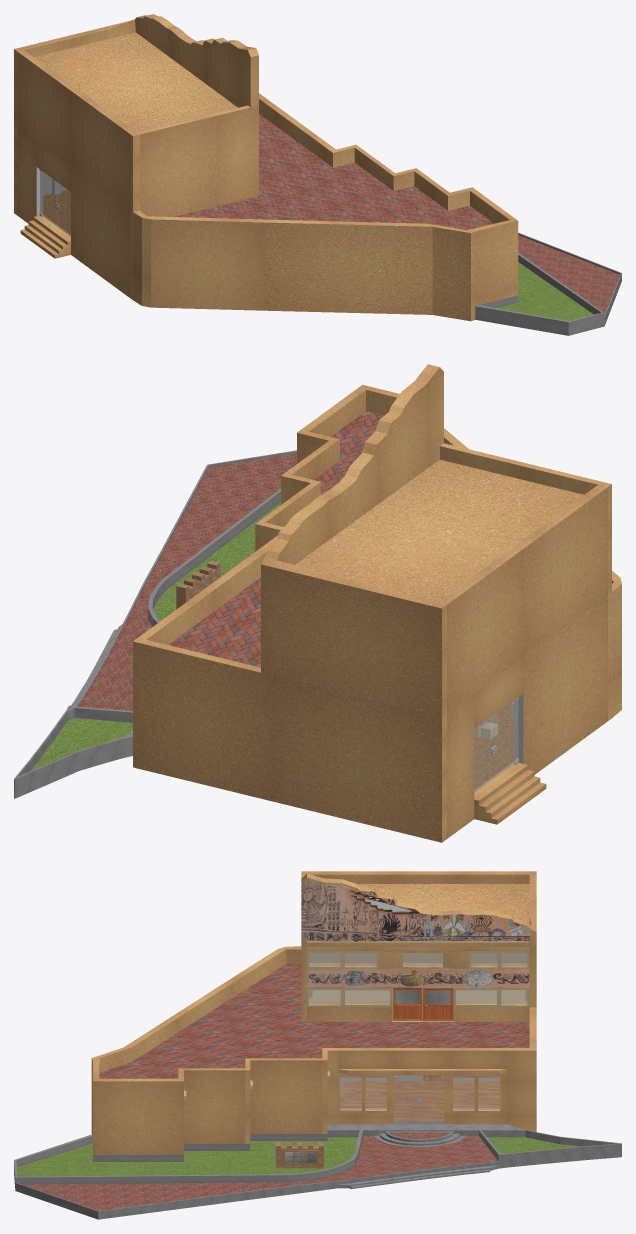
Rendered from NuevoMuseoV2.fbx.
3 renders of one model, top to bottom at view 1: azimuth 30°, elevation 25°; view 2: azimuth 150°, elevation 25°; view 3: azimuth 270°, elevation 25°, orthographic. The views are drawn at different scales.
Visible parts, largest first — view 1: Plano.001, Cubo.020, Cubo.019; view 2: Plano.001, Cubo.019, Cubo.020, letrero; view 3: Plano.001, Cubo.018, Cubo.017, Cubo.024, Cubo.025, letrero, Cubo.011, Cubo.009, Cubo.013, Cubo.012, Cubo.006, Cubo.005 (+2 smaller).
Boxes of the visible parts, x1,y1,x2,y2 form: Plano.001: (14, 14, 621, 335); Cubo.020: (40, 171, 56, 225); Cubo.019: (57, 182, 70, 236); Plano.001: (14, 364, 621, 842); Cubo.019: (494, 699, 518, 778); Cubo.020: (474, 715, 493, 792); letrero: (176, 560, 220, 609); Plano.001: (14, 871, 621, 1219); Cubo.018: (393, 1076, 418, 1122); Cubo.017: (419, 1076, 444, 1122); Cubo.024: (422, 988, 453, 1021); Cubo.025: (392, 988, 422, 1020); letrero: (275, 1142, 323, 1168); Cubo.011: (453, 1077, 474, 1109); Cubo.009: (478, 1077, 499, 1109); Cubo.013: (340, 1077, 361, 1109); Cubo.012: (365, 1077, 386, 1109); Cubo.006: (345, 990, 389, 1003); Cubo.005: (456, 990, 496, 1003).
Size of the model in its own units: 590 by 307 by 781.
